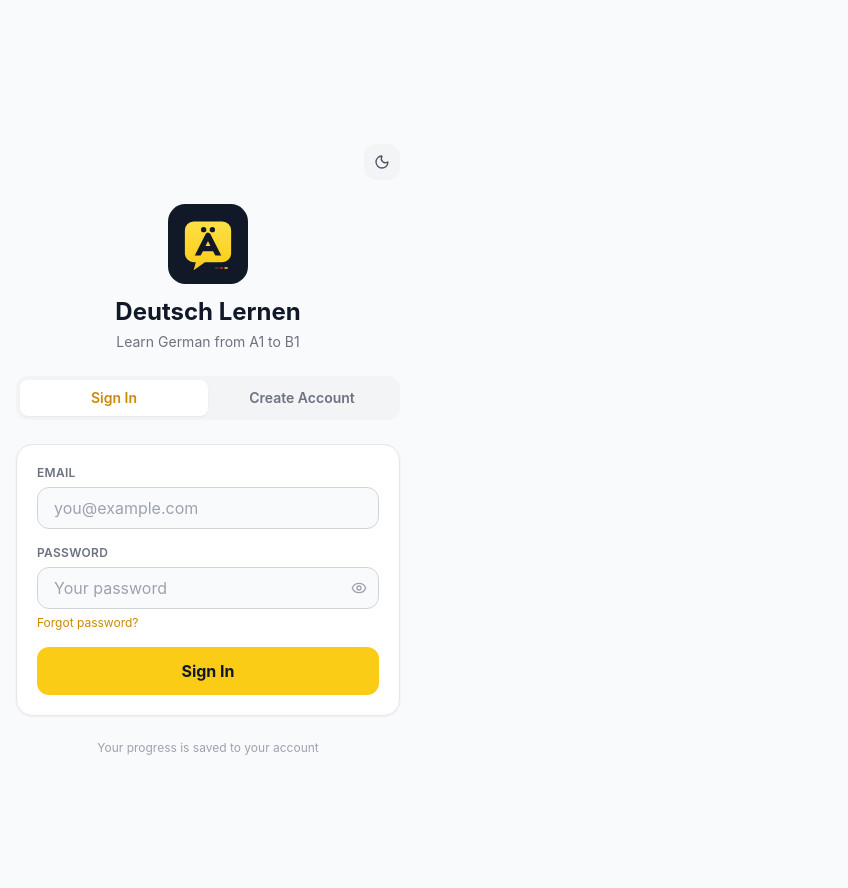
Test case: sign-up offers only levels that have lessons and needs 8-character passwords
Step 1. Click the button "Create Account" → (302, 398), box x1=208 y1=380 x2=396 y2=416
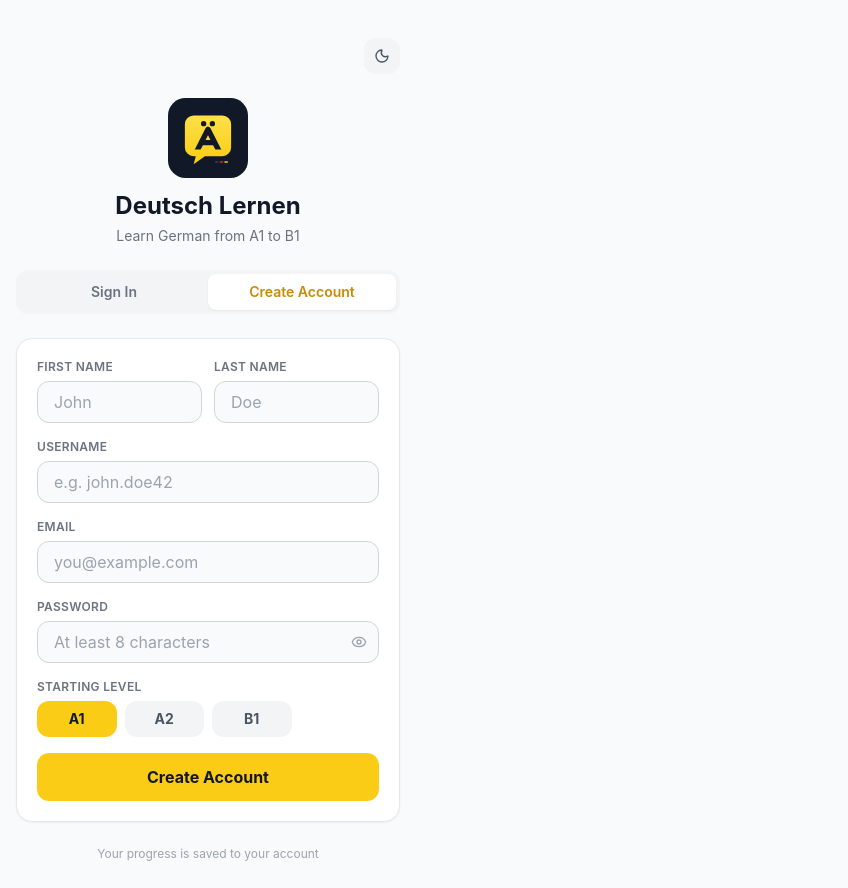
expect the button "B1" is shown: met, box x1=212 y1=701 x2=292 y2=737
Step 2. Type "anna" into the field with placeholder "e.g. john.doe42" → (208, 482), box x1=37 y1=461 x2=379 y2=503
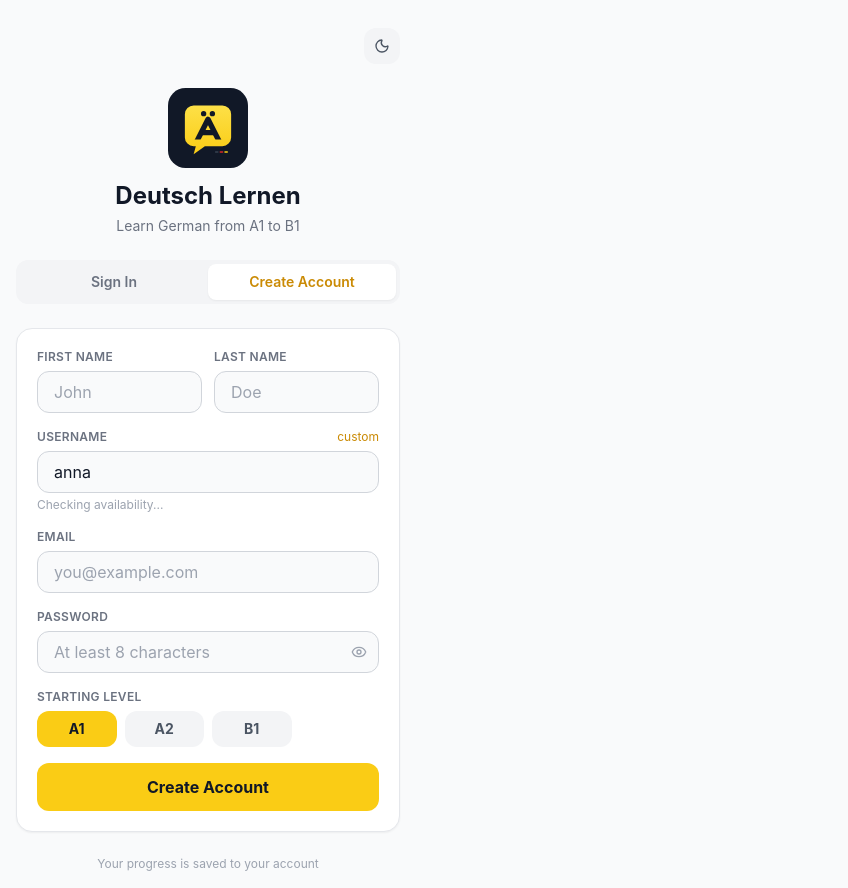
Step 3. Type "anna@example.com" into the field with placeholder "you@example.com" → (208, 572), box x1=37 y1=551 x2=379 y2=593
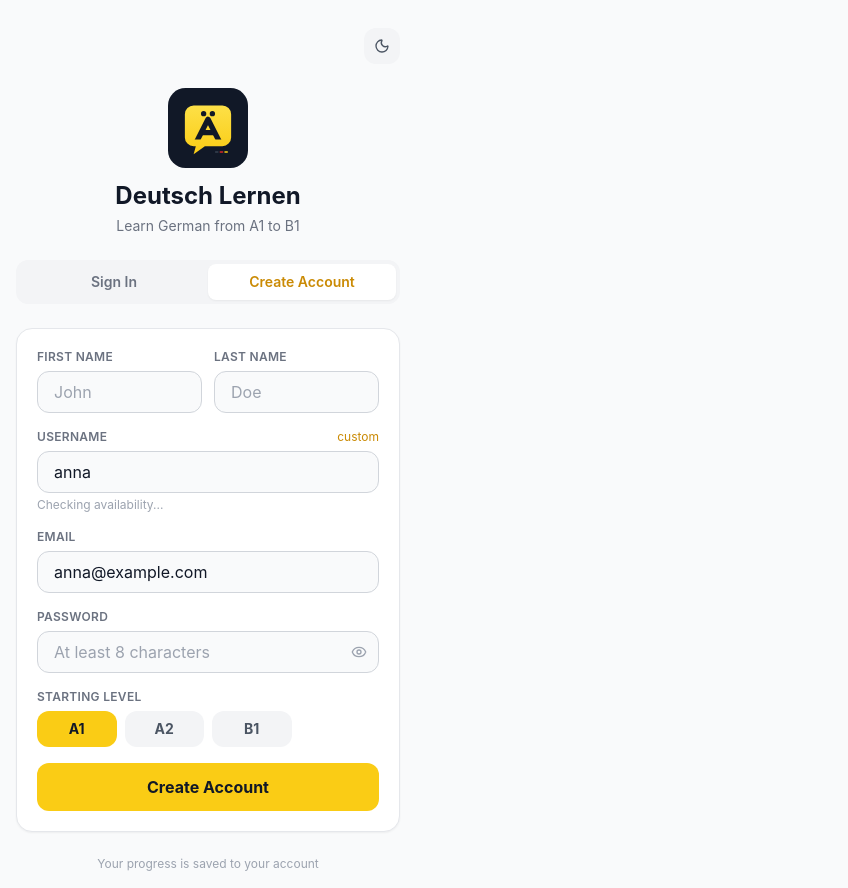
Step 4. Type "short12" into the password field with placeholder "At least 8 characters" → (208, 652), box x1=37 y1=631 x2=379 y2=673
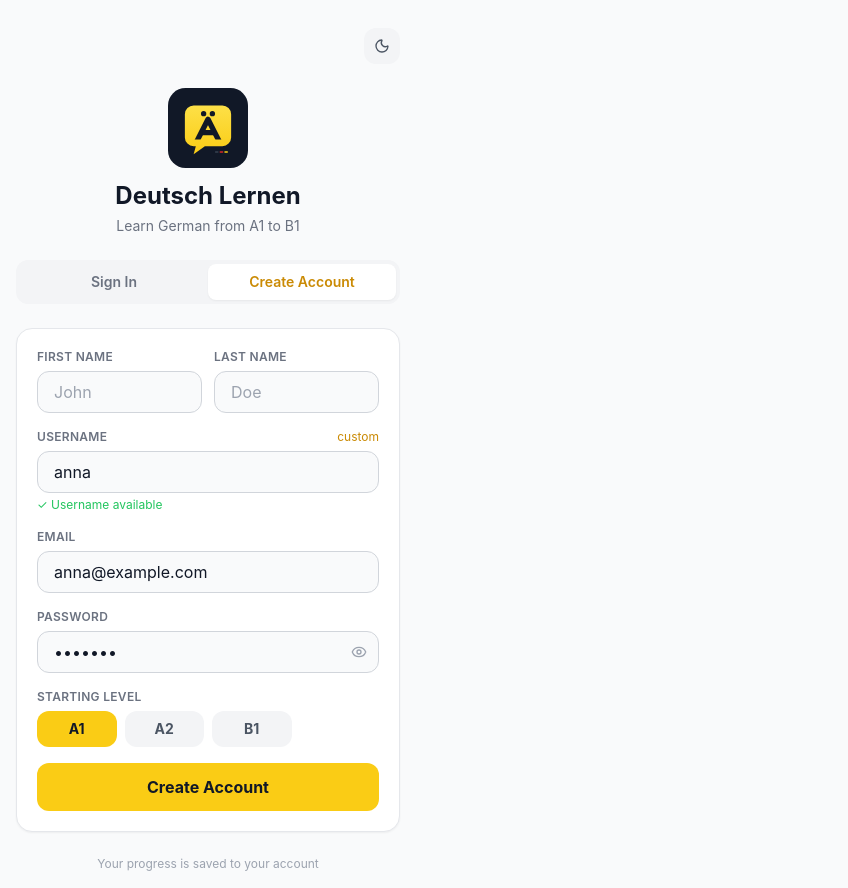
expect the text "✓ Username available" is shown: met, box x1=37 y1=497 x2=162 y2=512
Step 5. Click the button "Create Account" below "Starting Level" → (208, 787), box x1=37 y1=763 x2=379 y2=811
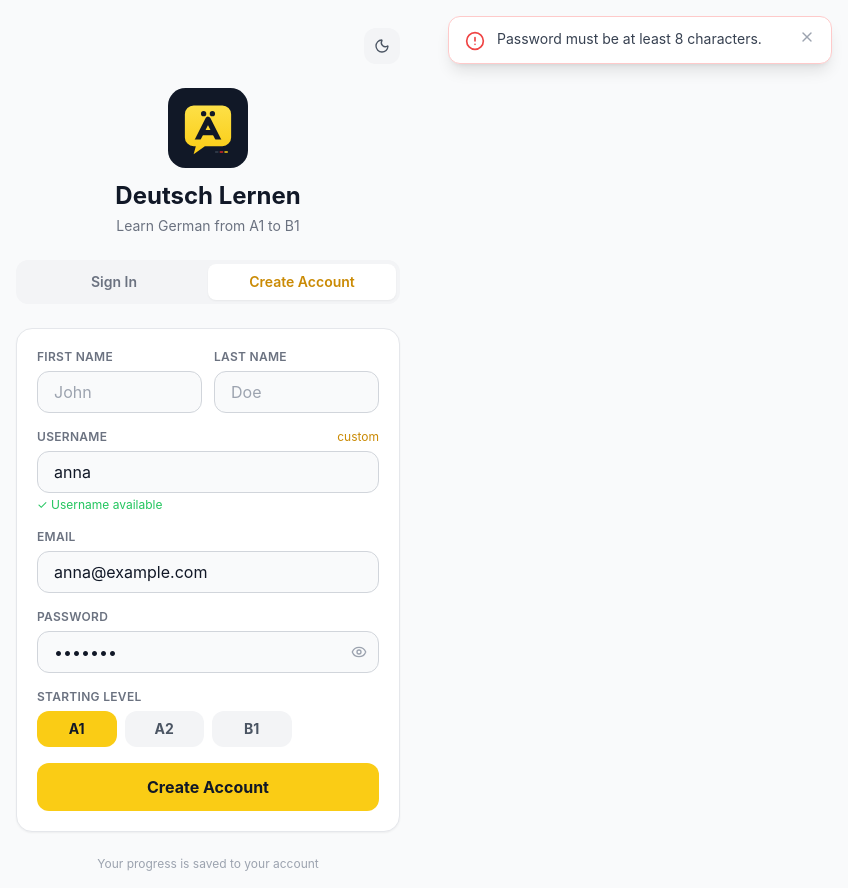
expect the text "Password must be at least 8 characters." is shown: met, box x1=497 y1=29 x2=787 y2=49
